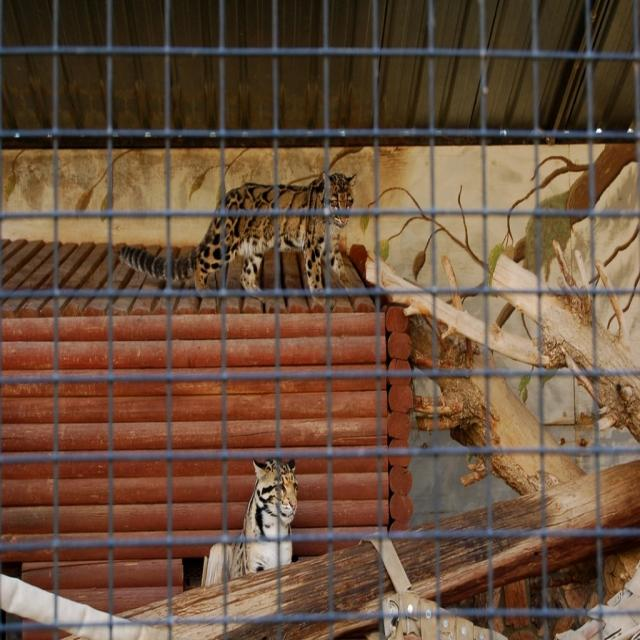Tiger: (233, 456, 300, 572)
